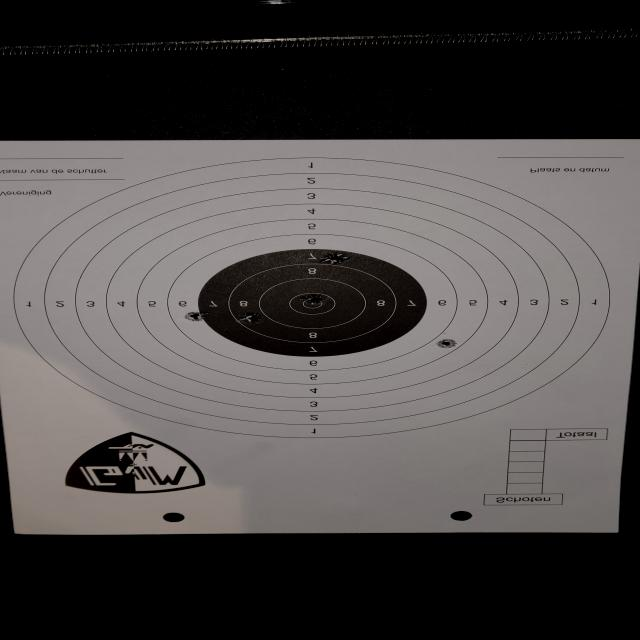10: (302, 294, 329, 304)
5: (435, 338, 458, 349)
7: (322, 252, 350, 265), (181, 311, 208, 322)
8: (237, 312, 262, 324)
Target: (13, 160, 614, 440)
black_contour: (198, 248, 428, 358)
